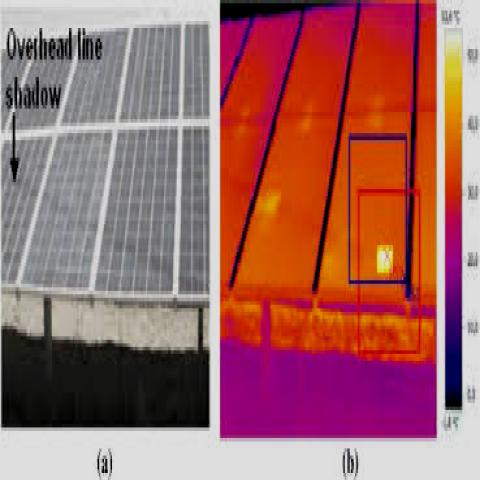fault: (377, 246, 393, 274)
